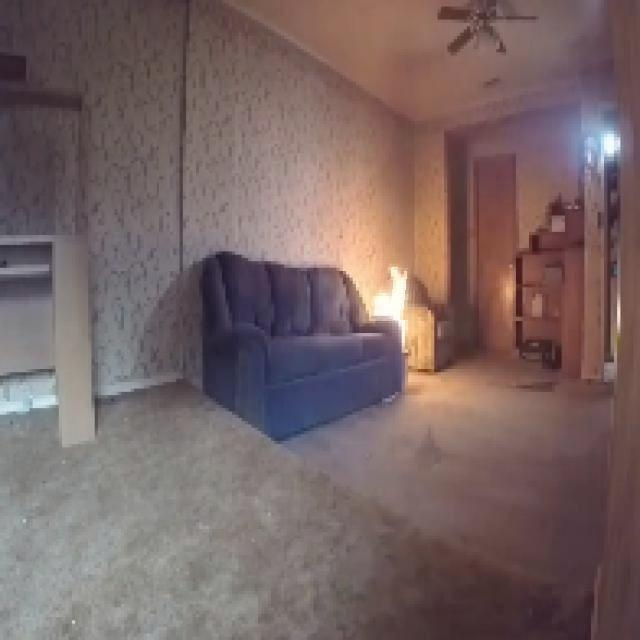fire: (364, 259, 417, 340)
